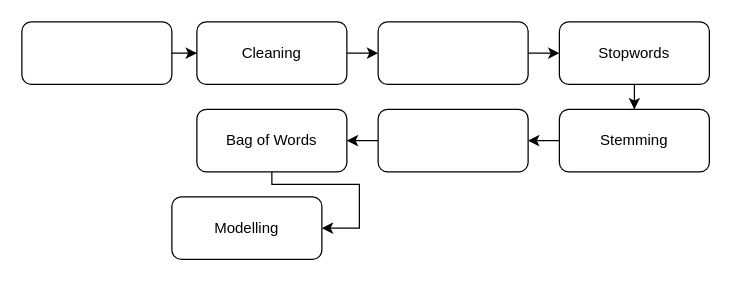
Some shapes in this 731 by 281 pixel diagram are drawn without their labels. The centre of each missing label's shape, as x and y in pixels:
"Crawling" belongs at (96,52).
"Joining" belongs at (452,140).
"Tokenize" belongs at (452,52).
